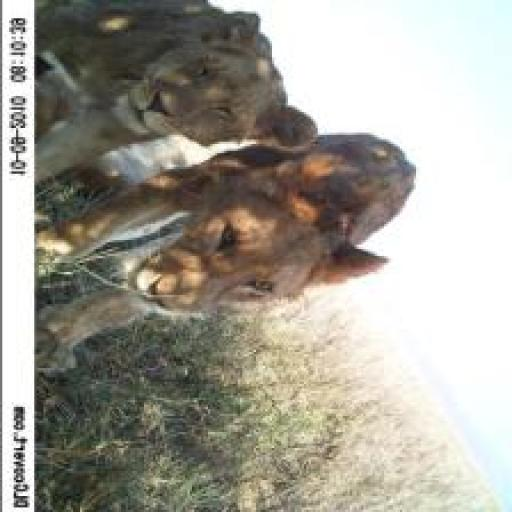lion: (37, 144, 448, 346), (21, 2, 321, 145)
